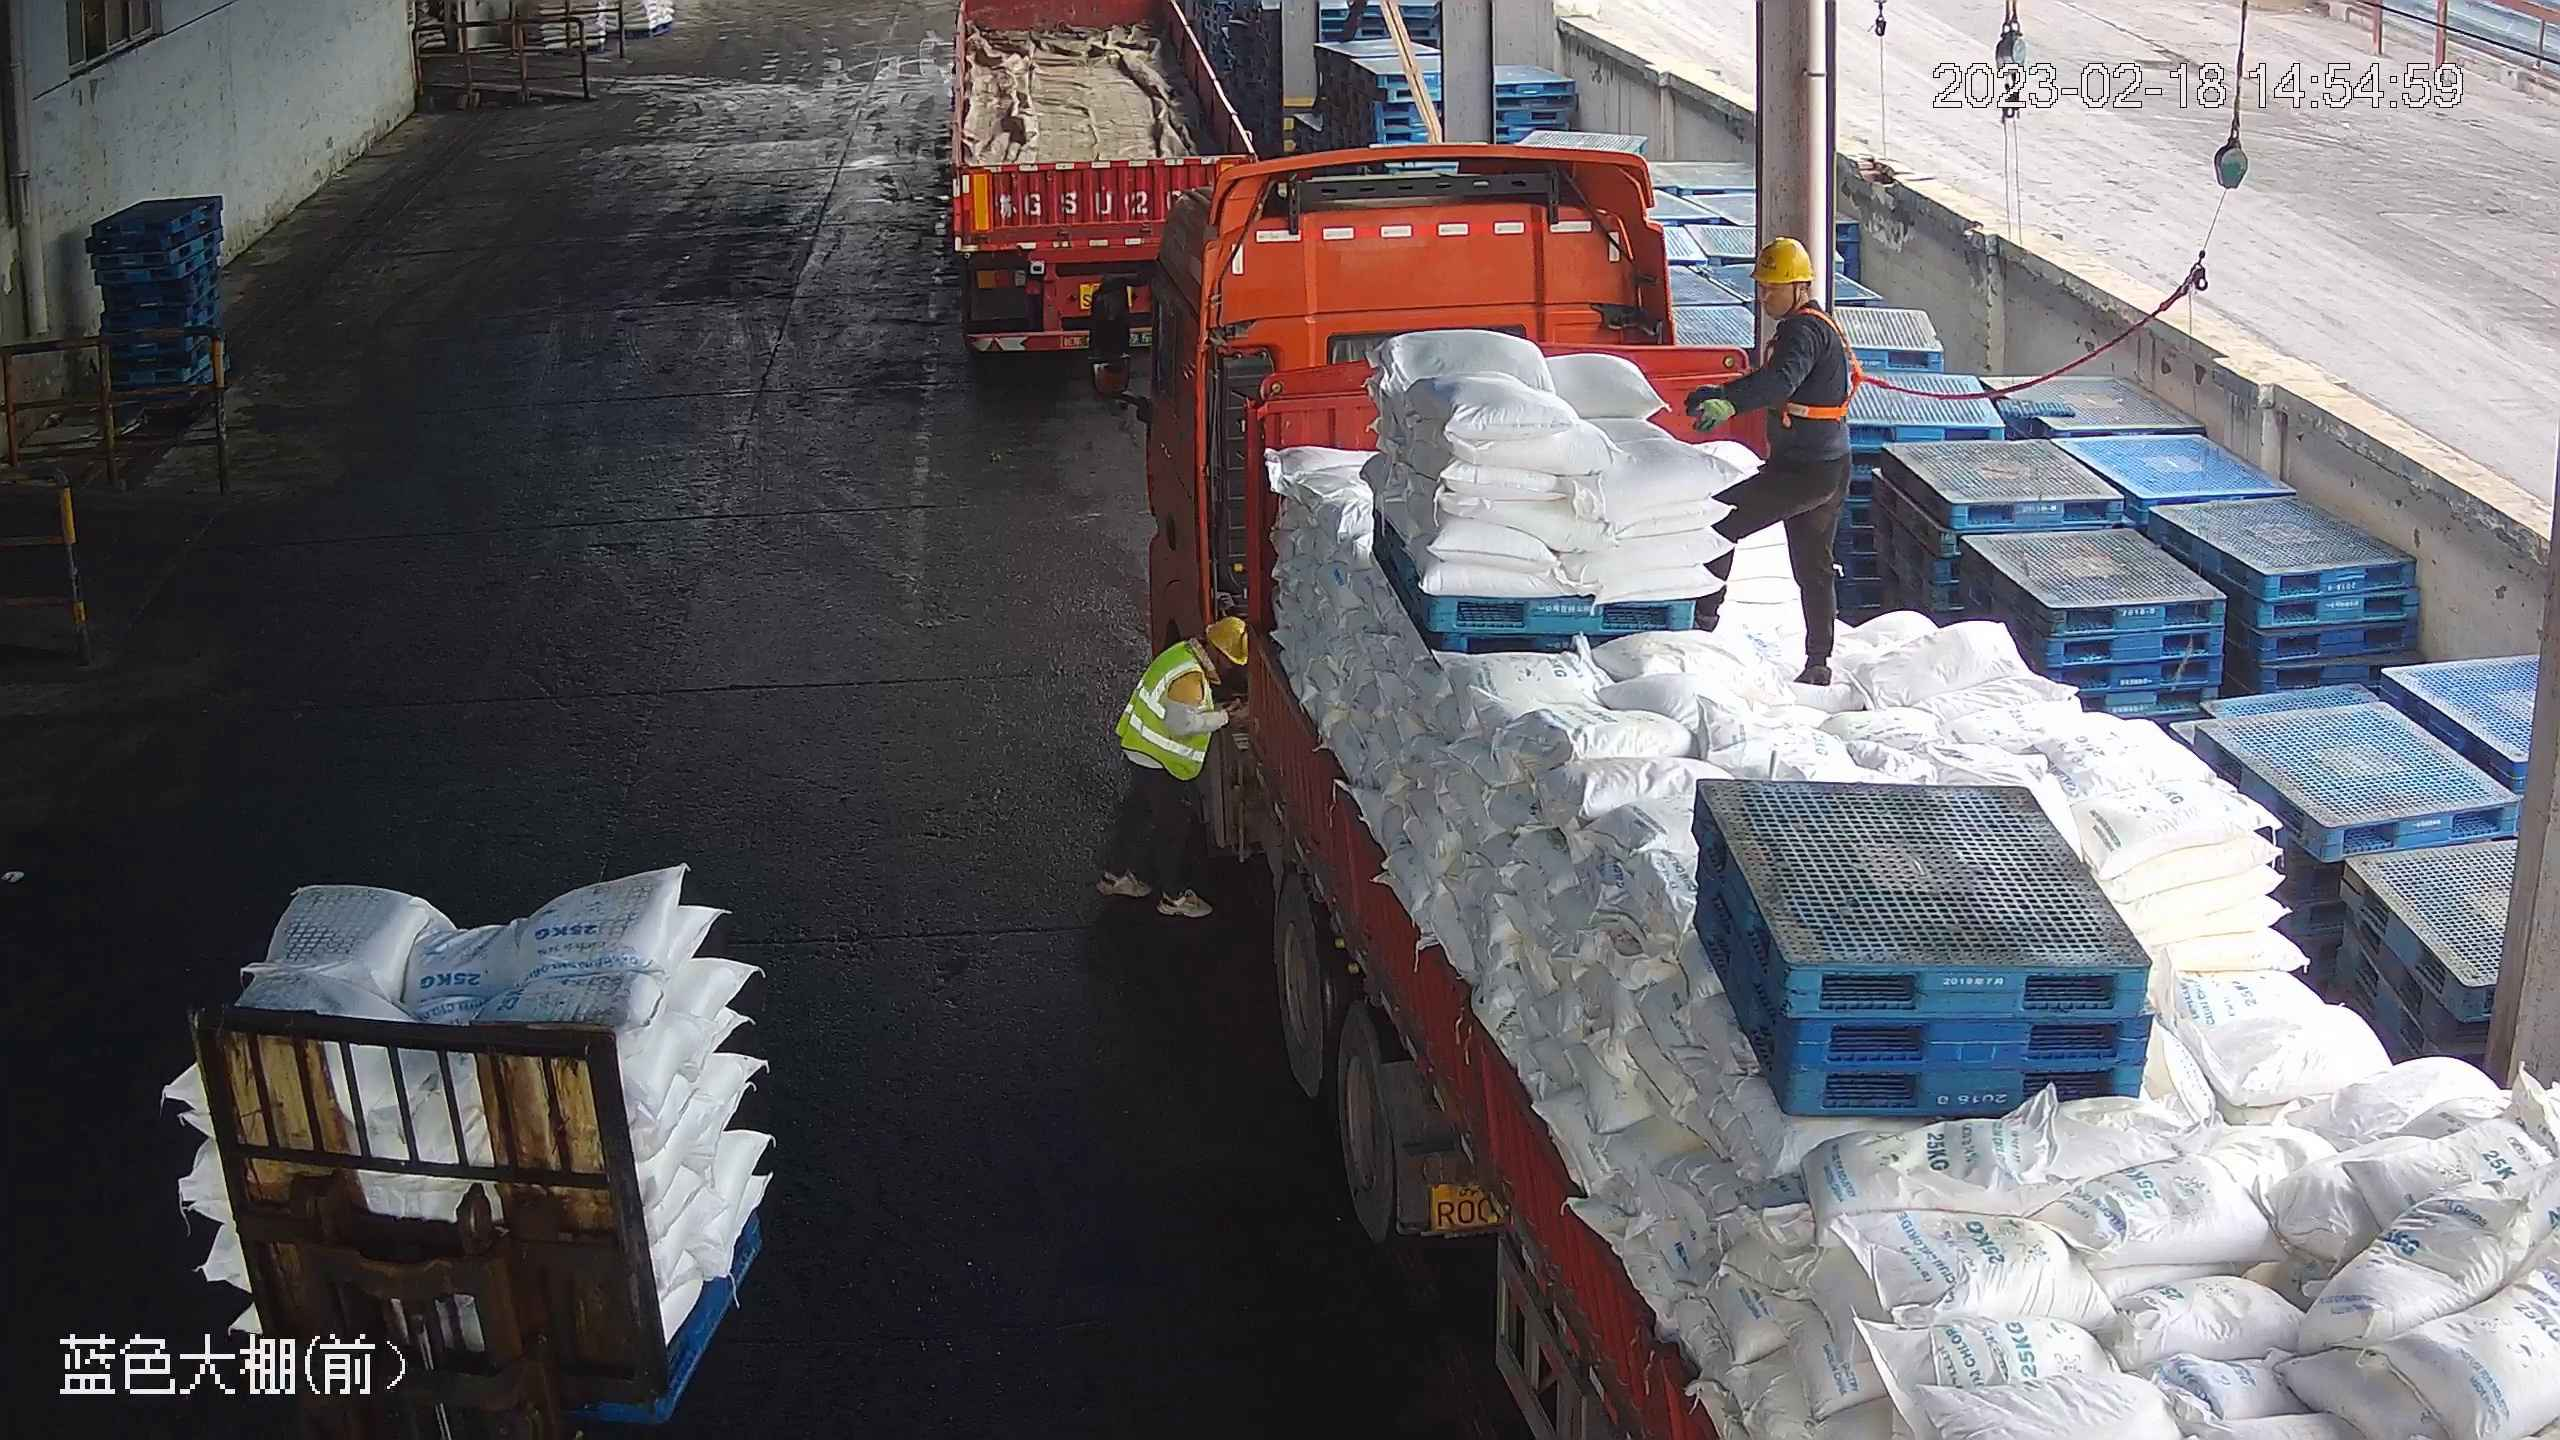belt: (1769, 304, 1869, 423), (1136, 633, 1209, 737)
head: (1131, 611, 1255, 724), (1745, 235, 1854, 363)
helmet: (1748, 234, 1818, 285), (1207, 612, 1254, 666)
people: (1663, 232, 1856, 687), (1092, 609, 1264, 923)
truck: (1089, 161, 2554, 1440), (927, 1, 1257, 347)
